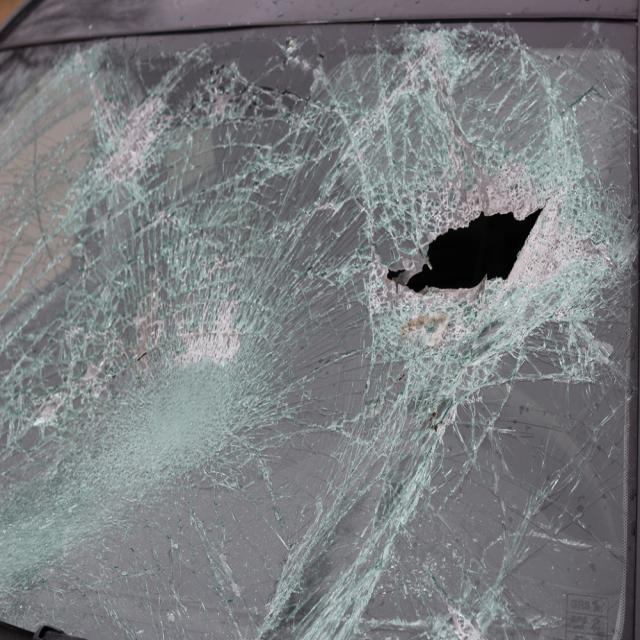glass shatter: (0, 20, 639, 640)
